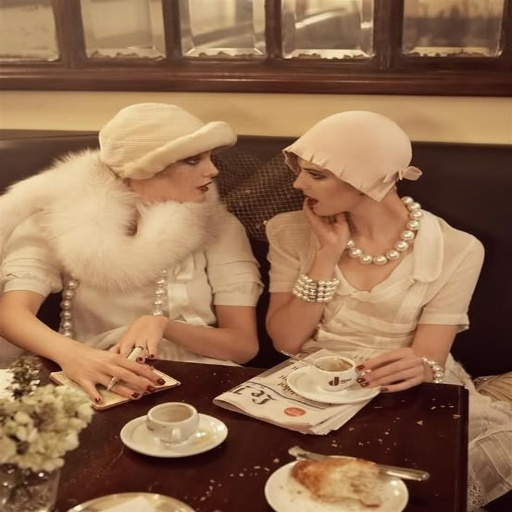hand: (34, 329, 165, 401), (354, 346, 430, 394), (299, 194, 354, 252), (104, 316, 168, 363)
